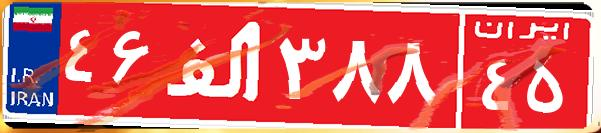3: (273, 28, 330, 110)
4: (57, 26, 110, 107), (475, 38, 525, 113)
5: (525, 38, 570, 115)
6: (110, 28, 158, 105)
8: (385, 28, 445, 110), (330, 28, 385, 110)
الف: (158, 15, 273, 115)
